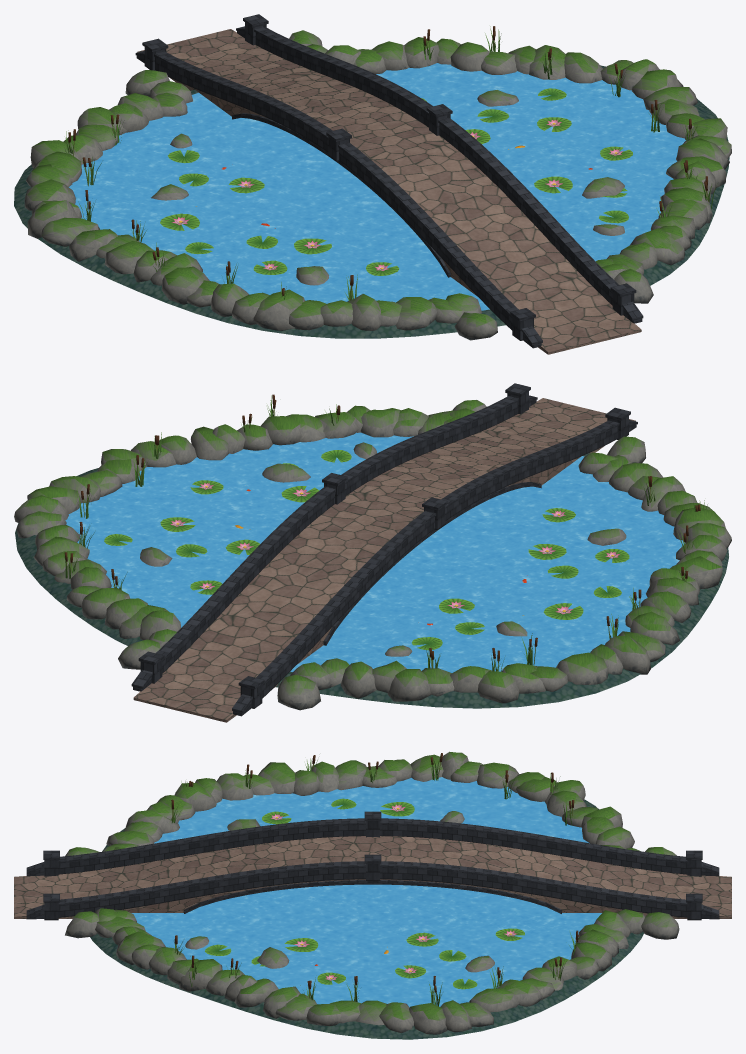
The model's file is HeroBridgePond.fbx.
3 renders of one model, top to bottom at view 1: azimuth 30°, elevation 25°; view 2: azimuth 150°, elevation 25°; view 3: azimuth 270°, elevation 25°, orthographic. The views are drawn at different scales.
Parts seen in each view (by area): view 1: Pond_Water, Pond_Rocks, Pond_BridgeDeck, Pond_BridgeRails, Pond_Flora, Pond_Bed; view 2: Pond_Water, Pond_Rocks, Pond_BridgeDeck, Pond_BridgeRails, Pond_Flora, Pond_Bed; view 3: Pond_Water, Pond_Rocks, Pond_BridgeRails, Pond_BridgeDeck, Pond_Flora, Pond_Bed.
Part boxes in pixels (x1,y1,x2,y2): Pond_Water: [69, 63, 685, 310]; Pond_Rocks: [24, 30, 731, 340]; Pond_BridgeDeck: [137, 29, 641, 354]; Pond_BridgeRails: [135, 14, 643, 348]; Pond_Flora: [65, 26, 717, 301]; Pond_Bed: [14, 65, 729, 338]; Pond_Water: [65, 432, 685, 672]; Pond_Rocks: [14, 400, 731, 710]; Pond_BridgeDeck: [133, 398, 635, 722]; Pond_BridgeRails: [131, 383, 637, 716]; Pond_Flora: [63, 394, 707, 671]; Pond_Bed: [15, 453, 728, 708]; Pond_Water: [131, 777, 601, 1007]; Pond_Rocks: [65, 751, 679, 1034]; Pond_BridgeRails: [26, 811, 719, 920]; Pond_BridgeDeck: [14, 836, 731, 918]; Pond_Flora: [171, 753, 580, 1006]; Pond_Bed: [90, 799, 643, 1039].
Bounding box in the file's own units: 77.68 × 9.43 × 86.
5 materials, 5 textured.
